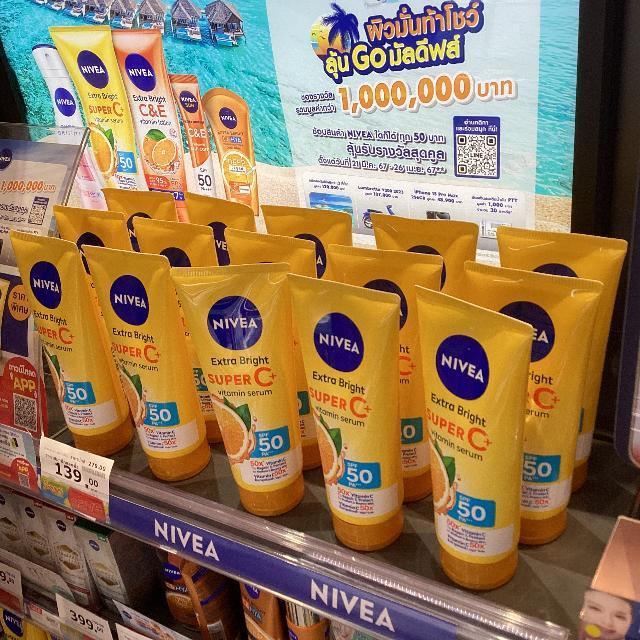Squeeze Tube: (3, 138, 628, 614), (164, 259, 305, 518), (280, 269, 407, 545), (416, 288, 527, 585), (78, 244, 211, 480), (9, 229, 137, 458)
